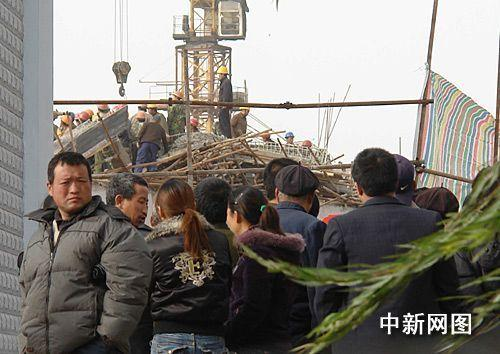helmet: (59, 115, 73, 127), (216, 65, 230, 76), (95, 103, 112, 112), (80, 112, 90, 123), (174, 90, 185, 100), (189, 117, 198, 128), (239, 106, 252, 113), (263, 132, 273, 140), (137, 112, 146, 120), (286, 133, 295, 141), (303, 140, 312, 148), (148, 102, 157, 110)
